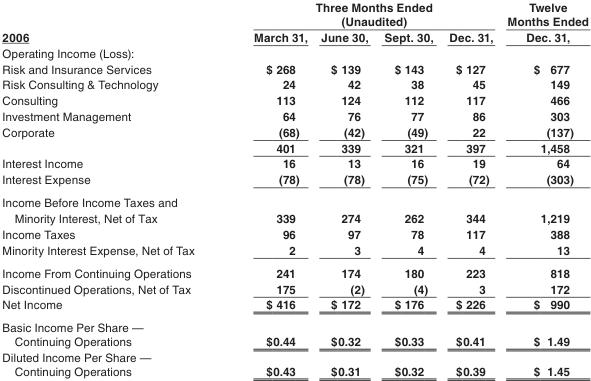table: (1, 0, 587, 377)
table column: (1, 0, 223, 377), (223, 0, 313, 377), (499, 0, 587, 377), (375, 0, 440, 377), (313, 0, 375, 377), (440, 0, 499, 377)
table column header: (1, 0, 587, 44)
table projected row header: (1, 190, 587, 210), (1, 315, 587, 334), (1, 44, 587, 60), (1, 349, 587, 364)
table row: (1, 0, 587, 29), (1, 190, 587, 210), (1, 241, 587, 261), (1, 171, 587, 190), (1, 261, 587, 280), (1, 296, 587, 315), (1, 315, 587, 334), (1, 44, 587, 60), (1, 60, 587, 76), (1, 76, 587, 92), (1, 107, 587, 123), (1, 123, 587, 139), (1, 139, 587, 155), (1, 155, 587, 171), (1, 225, 587, 241), (1, 280, 587, 296), (1, 29, 587, 44), (1, 92, 587, 107), (1, 210, 587, 225), (1, 334, 587, 349), (1, 349, 587, 364), (1, 364, 587, 377)
table spanning cell: (1, 0, 223, 44), (223, 0, 499, 29), (499, 0, 587, 44)
